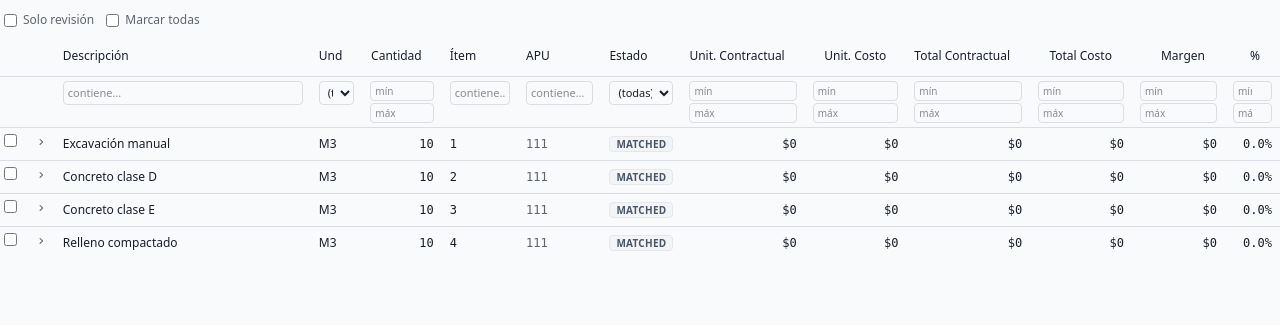
Test case: cambiar el filtro no arrastra al lote las filas que dejaron de verse
The image size is (1280, 325).
Click the checkbox named "Marcar todas las líneas": (113, 20) [106,14,119,26]
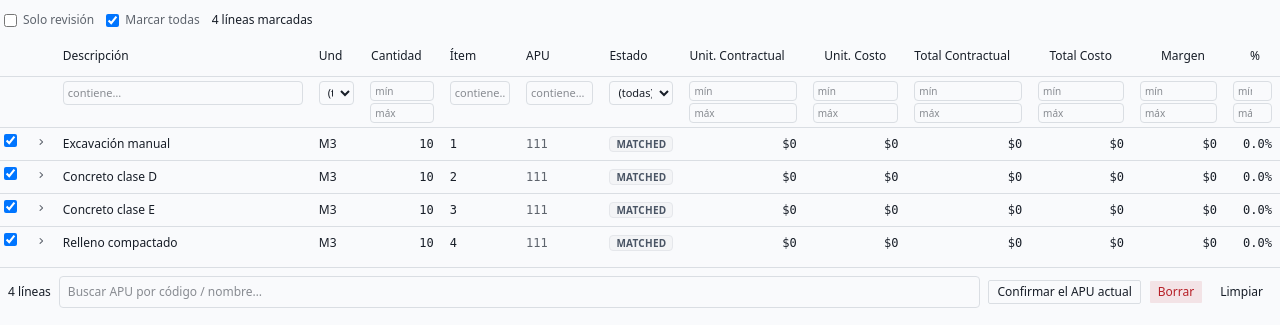
Check: the text "4 líneas marcadas" is shown, box [212,12,313,28]
filtrar para dejar 1 visible: las otras 3 siguen en `marcadas` pero ya no cuentan
In the field named "Filtrar Descripción": (183, 92) [63,80,303,104], type "clase d"
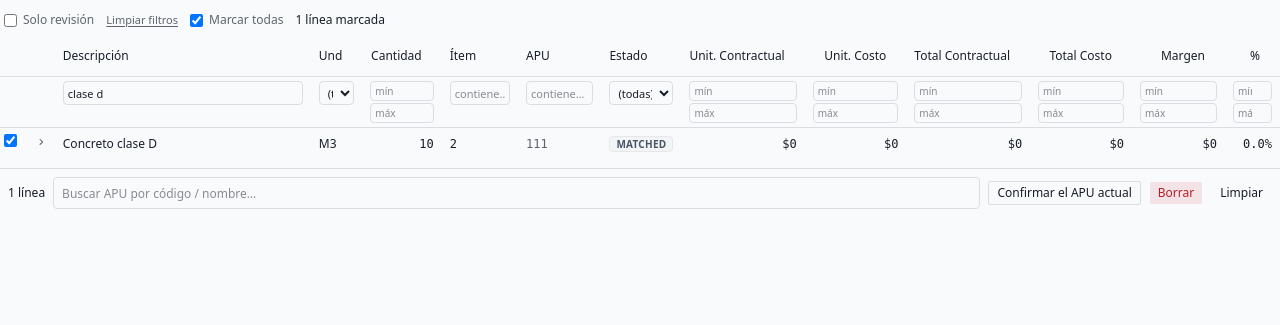
Check: the text "1 línea marcada" is shown, box [295,12,385,28]
